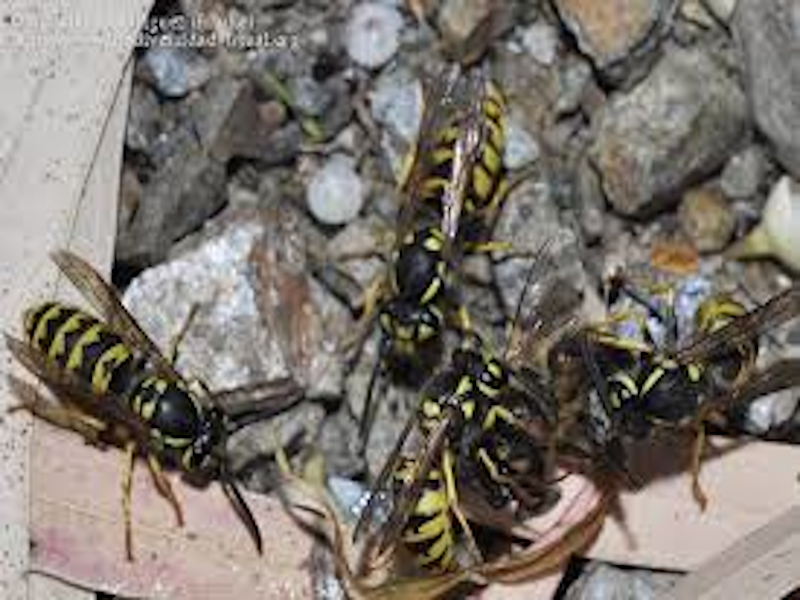chax: (1, 266, 268, 563), (328, 42, 527, 413), (570, 277, 793, 523), (364, 345, 543, 592)
